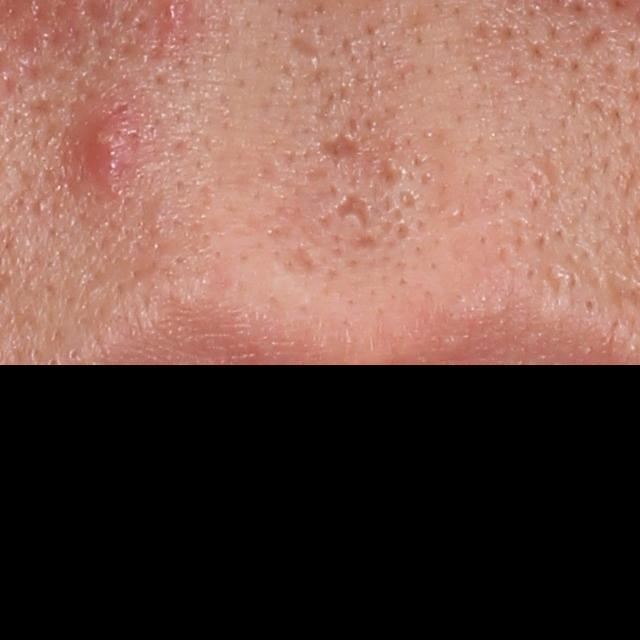atrophic_scar: (317, 129, 369, 160), (331, 192, 371, 228), (377, 149, 411, 190), (287, 31, 324, 61), (580, 21, 608, 53), (288, 243, 316, 274), (346, 230, 380, 252)
